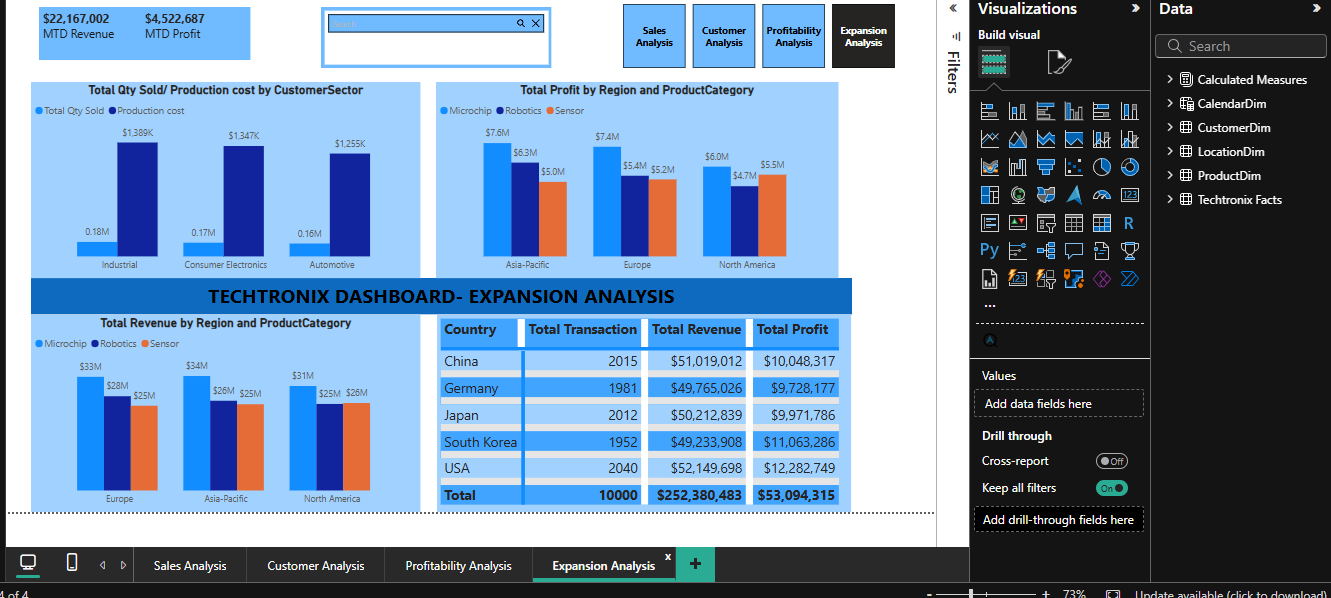

This screenshot's page, from the dashboard's own definition file:
{"tool":"powerbi","page":{"name":"Expansion Analysis","canvas":[1280,720],"ordinal":3},"visuals":[{"type":"textbox","box":[33.8,398.2,1130,50],"z":2000},{"type":"pageNavigator","box":[849.3,20.6,376.2,88.2],"z":3000},{"type":"textSearchSlicerF85E2E78BE4A4D7D9F99ED75B5D71C85","box":[1253.4,183.7,13.2,395.3],"z":4000},{"type":"textSearchSlicerF85E2E78BE4A4D7D9F99ED75B5D71C85","fields":{"fields":["ProductDim.ProductName"]},"box":[433.5,25,317.4,83.8],"z":5000},{"type":"multiRowCard","fields":{"Values":["Calculated Measures.MTD Revenue","Calculated Measures.MTD Profit"]},"box":[45.6,25,290.9,73.5],"z":6000},{"type":"clusteredColumnChart","title":"Total Qty Sold/ Production cost by CustomerSector","fields":{"Y":["Calculated Measures.Total Qty Sold","Calculated Measures.Production cost"],"Category":["CustomerDim.CustomerSector"]},"box":[33.8,127.8,536.3,270.4],"z":7000},{"type":"clusteredColumnChart","fields":{"Y":["Calculated Measures.Total Revenue"],"Series":["ProductDim.ProductCategory"],"Category":["LocationDim.Region"]},"box":[33.8,448.2,536.3,271.8],"z":8000},{"type":"clusteredColumnChart","fields":{"Series":["ProductDim.ProductCategory"],"Category":["LocationDim.Region"],"Y":["Calculated Measures.Total Profit"]},"box":[592.2,127.8,554,270.4],"z":9000},{"type":"pivotTable","fields":{"Rows":["LocationDim.Country"],"Values":["Calculated Measures.Total Transaction","Calculated Measures.Total Revenue","Calculated Measures.Total Profit"]},"box":[593.6,448.2,570.1,271.8],"z":10000}]}

Visuals, with their boxes on the page's 1280x720 design canvas (x1, y1, x2, y2). These are canvas units, not pixel positions in the 1331x598 screenshot, which may show the page scaled, cropped or inside an application window:
textbox: bbox=(34, 398, 1164, 448)
pageNavigator: bbox=(849, 21, 1226, 109)
textSearchSlicerF85E2E78BE4A4D7D9F99ED75B5D71C85: bbox=(1253, 184, 1267, 579)
textSearchSlicerF85E2E78BE4A4D7D9F99ED75B5D71C85 - ProductDim.ProductName: bbox=(434, 25, 751, 109)
multiRowCard - Calculated Measures.MTD Revenue x Calculated Measures.MTD Profit: bbox=(46, 25, 336, 98)
"Total Qty Sold/ Production cost by CustomerSector" clusteredColumnChart: bbox=(34, 128, 570, 398)
clusteredColumnChart - Calculated Measures.Total Revenue x ProductDim.ProductCategory: bbox=(34, 448, 570, 720)
clusteredColumnChart - ProductDim.ProductCategory x LocationDim.Region: bbox=(592, 128, 1146, 398)
pivotTable - LocationDim.Country x Calculated Measures.Total Transaction: bbox=(594, 448, 1164, 720)
